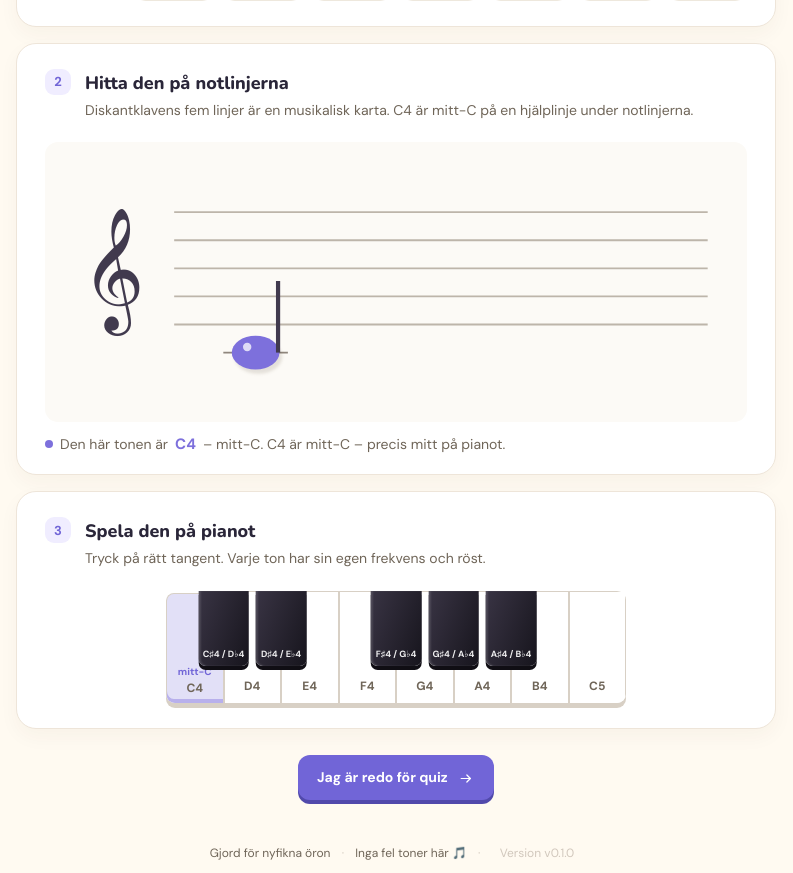
Scenario: Note Nest lesson › shows feedback without revealing the correct key after a wrong answer
(page scrolled)
Click the button "Jag är redo för quiz". click: x=396, y=778
box: [298,755,494,800]
(page scrolled)
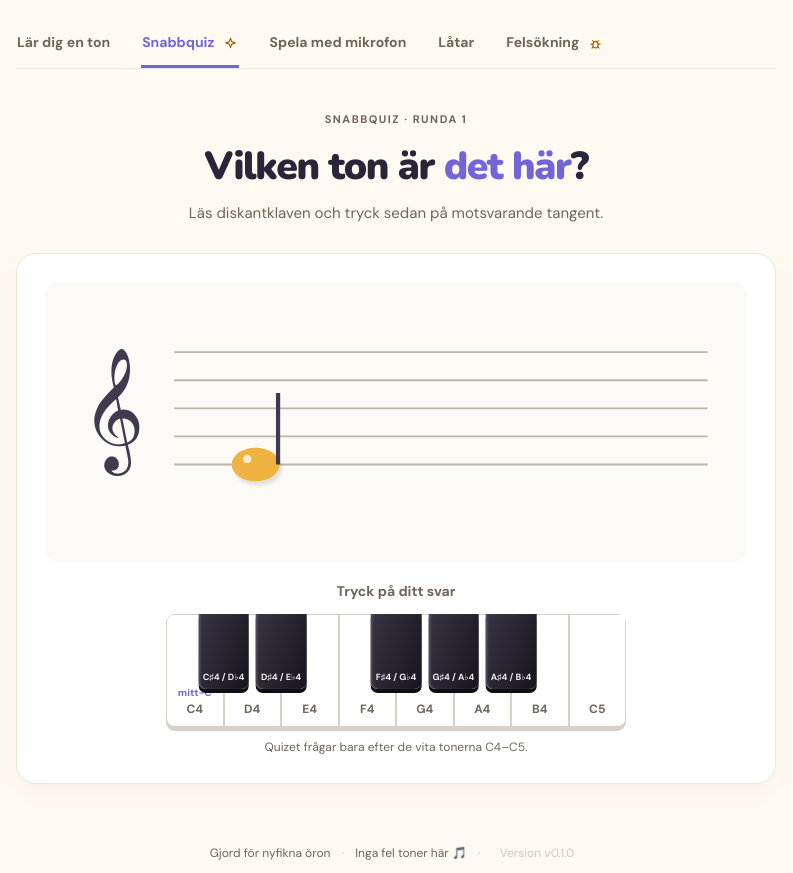
Click the button named "Spela A4". click: x=482, y=670
box: [454,614,511,726]
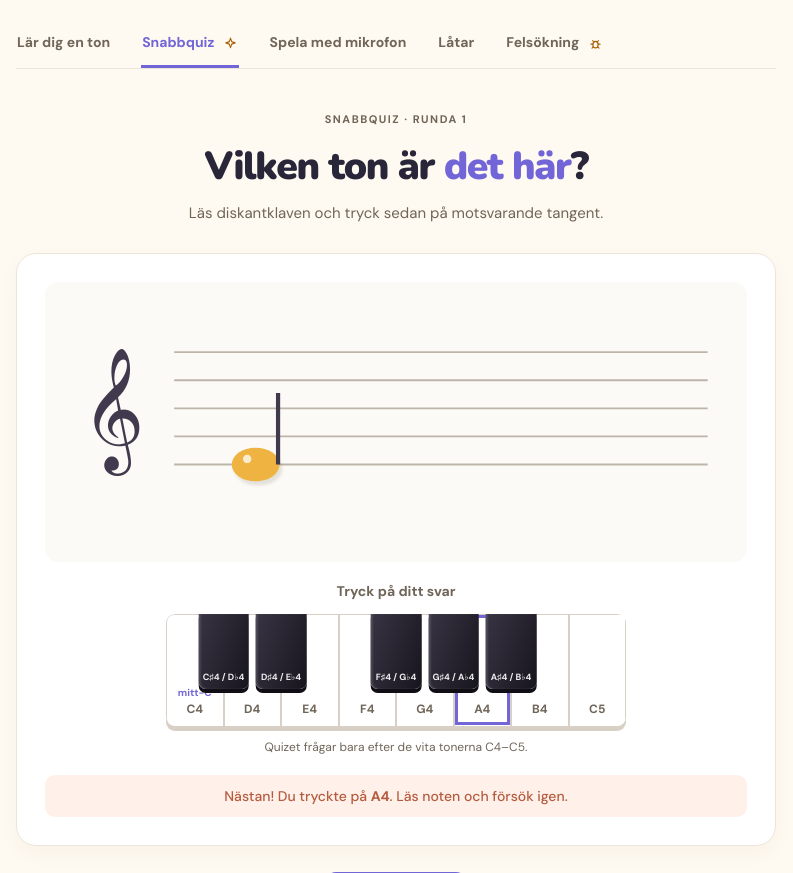
Expected: the message "Nästan! Du tryckte på A4. Läs noten och försök igen." is shown, [45,775,747,817]
